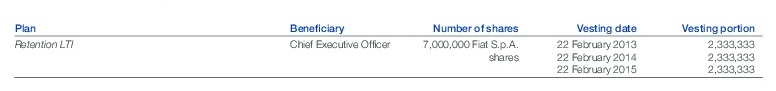table: (0, 0, 776, 91)
